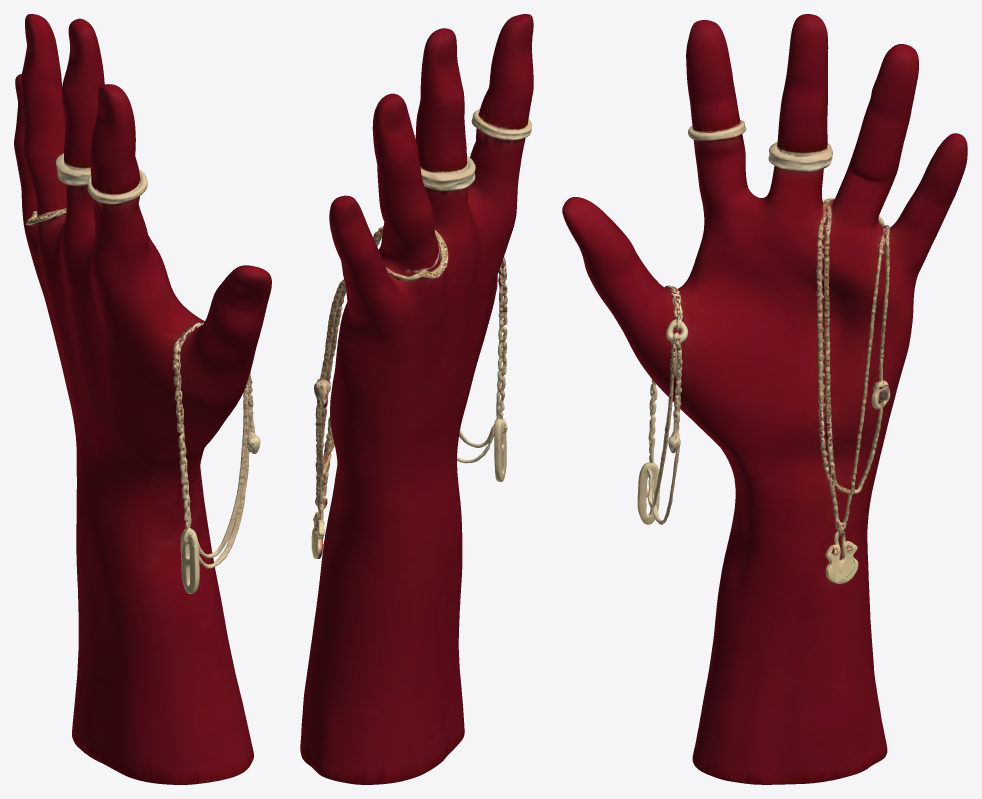
File: mano.glb
3 renders of one model, left to right at view 1: azimuth 30°, elevation 25°; view 2: azimuth 150°, elevation 25°; view 3: azimuth 270°, elevation 25°, orthographic. The views are drawn at different scales.
Visible parts, largest first — view 1: Object_01; view 2: Object_01; view 3: Object_01.
Boxes of the visible parts, box(x1,y1,x2,y2) form: Object_01: box(14, 14, 271, 784); Object_01: box(300, 14, 533, 784); Object_01: box(562, 14, 967, 784).
Size of the model in its own units: 0.2515 by 1 by 0.5212.
1 material, 1 textured.
